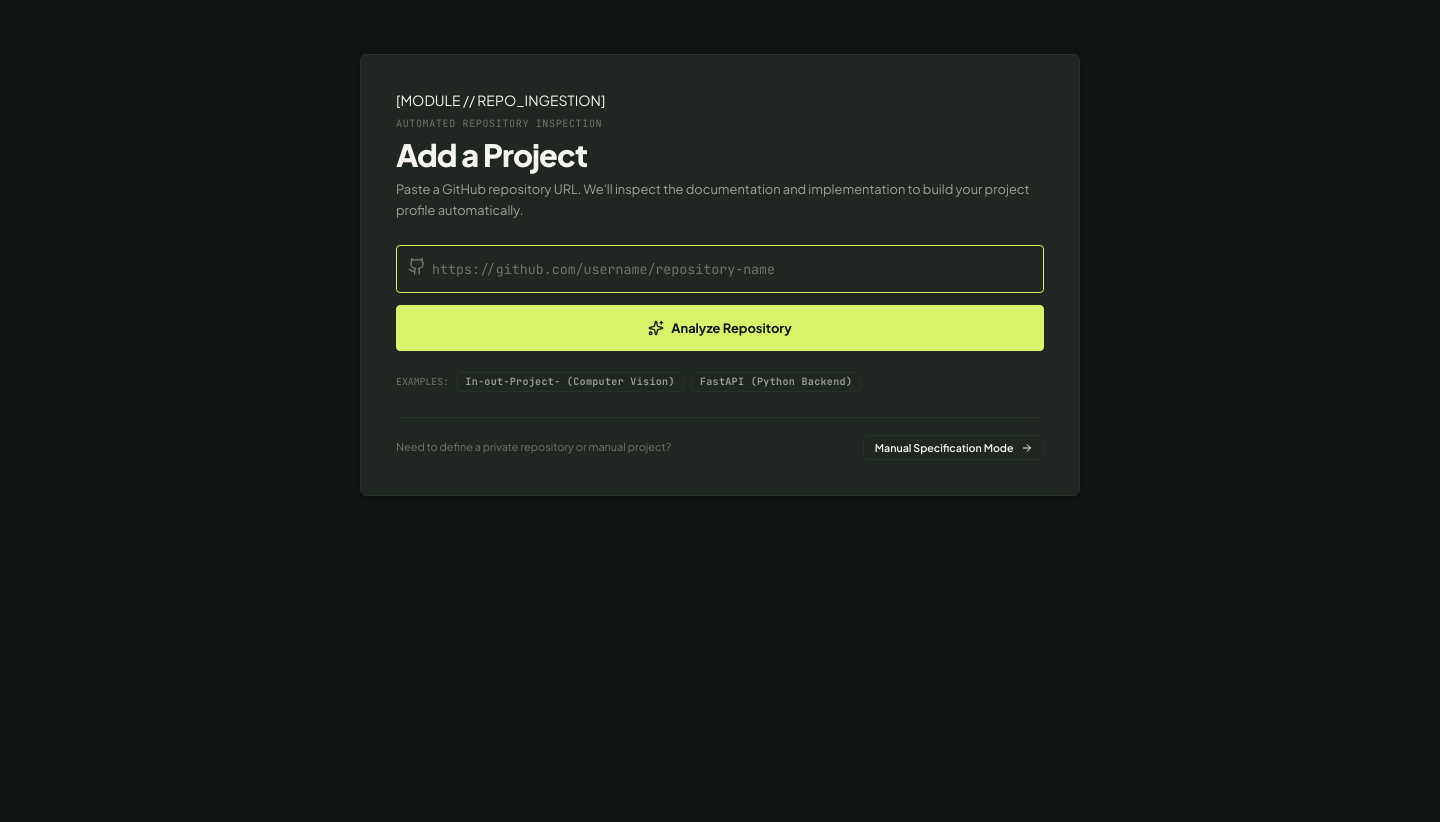
Scenario: AddProject Component › allows automatic GitHub extraction and auto-fills fields
Expected: the heading "Add a Project" is shown, [396,135,587,174]
Type "https://github.com/PVSaketh2003/In-out-Project-" into the field with placeholder "https://github.com/username/repository-name" at (720, 269), box [396,245,1044,293]
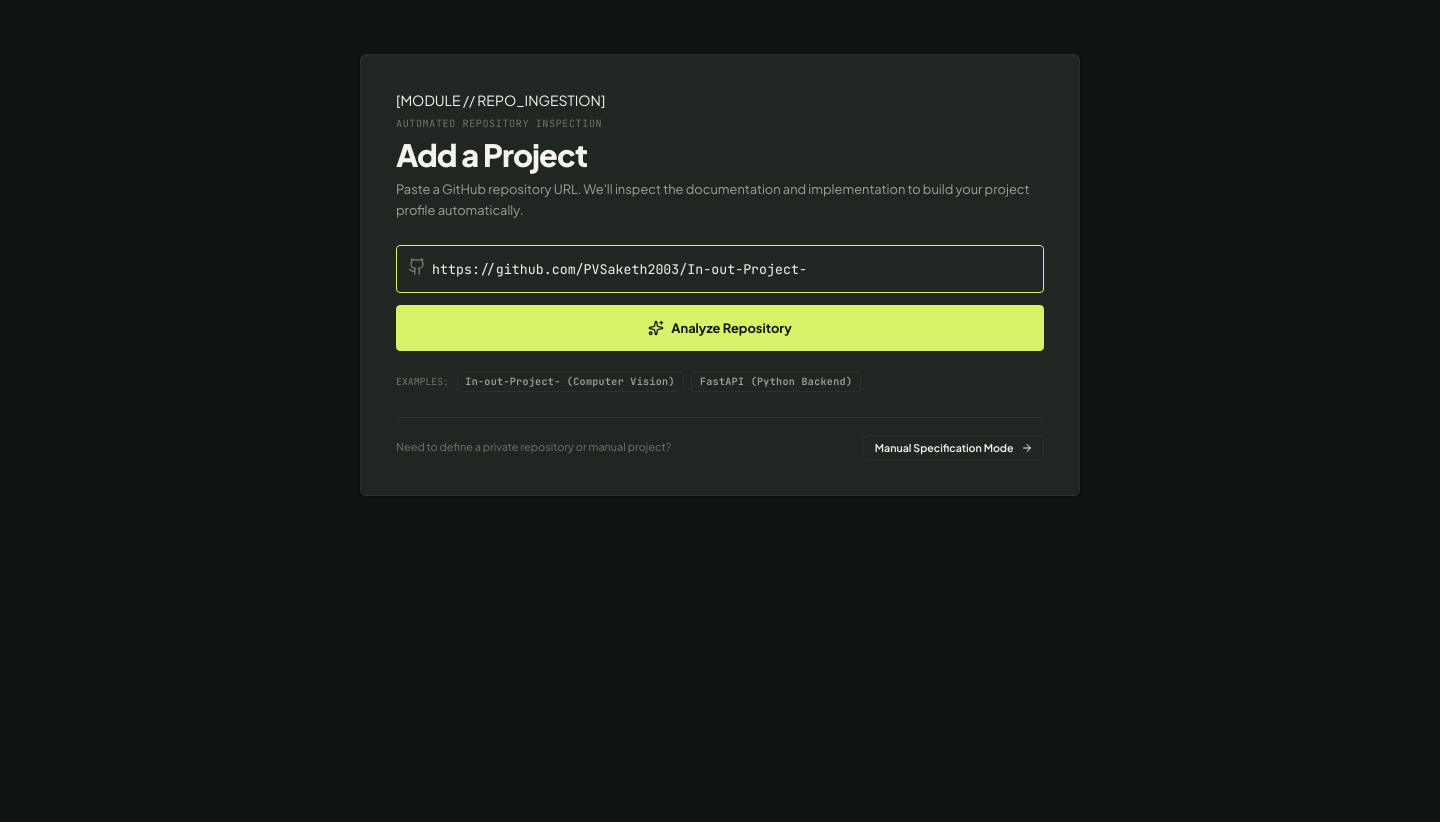
Click the button "Analyze Repository" at (720, 328), box [396,305,1044,351]
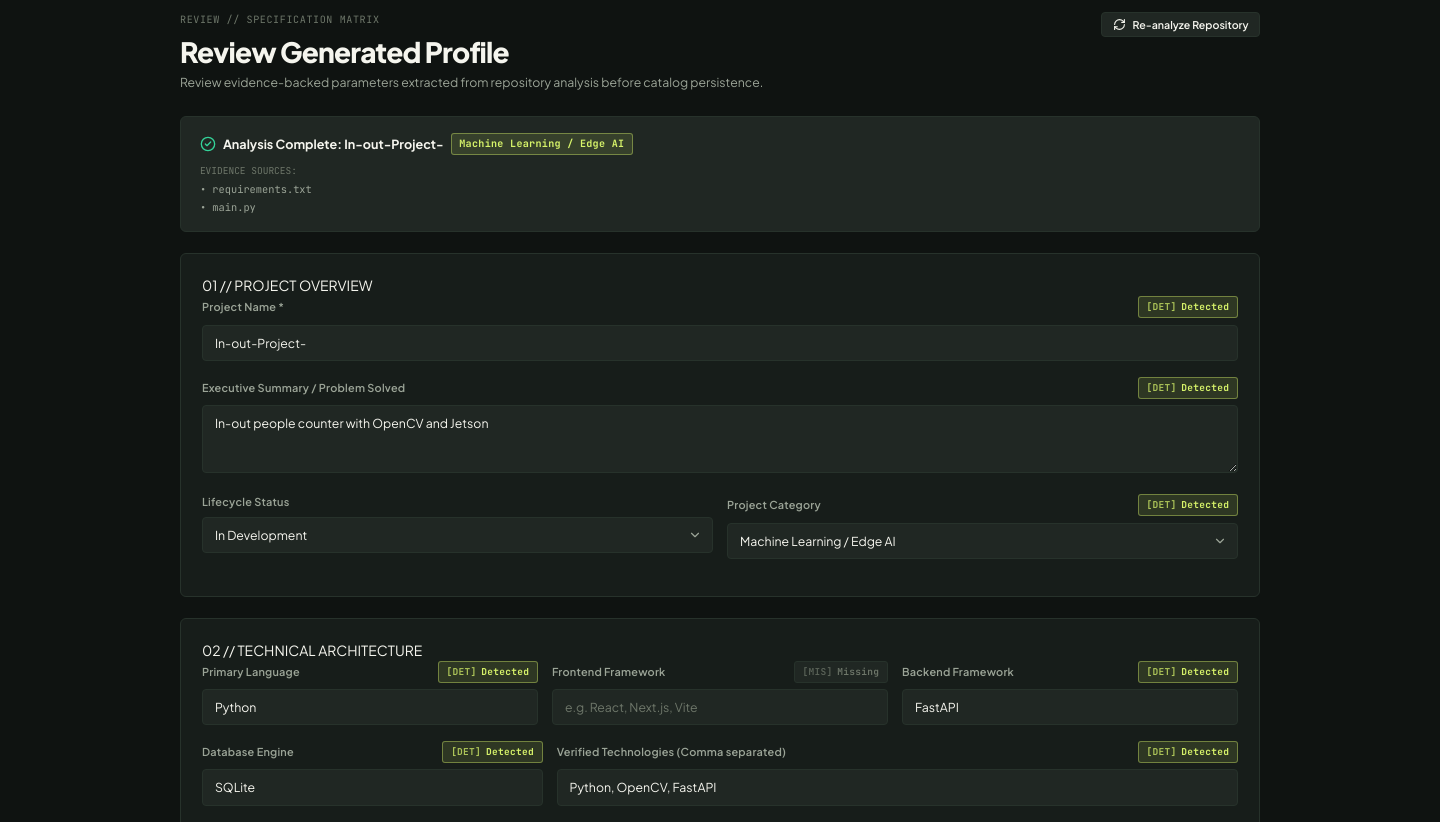
Result: the field showing "FastAPI" below "Backend Framework" is shown at [902,689,1238,725]
